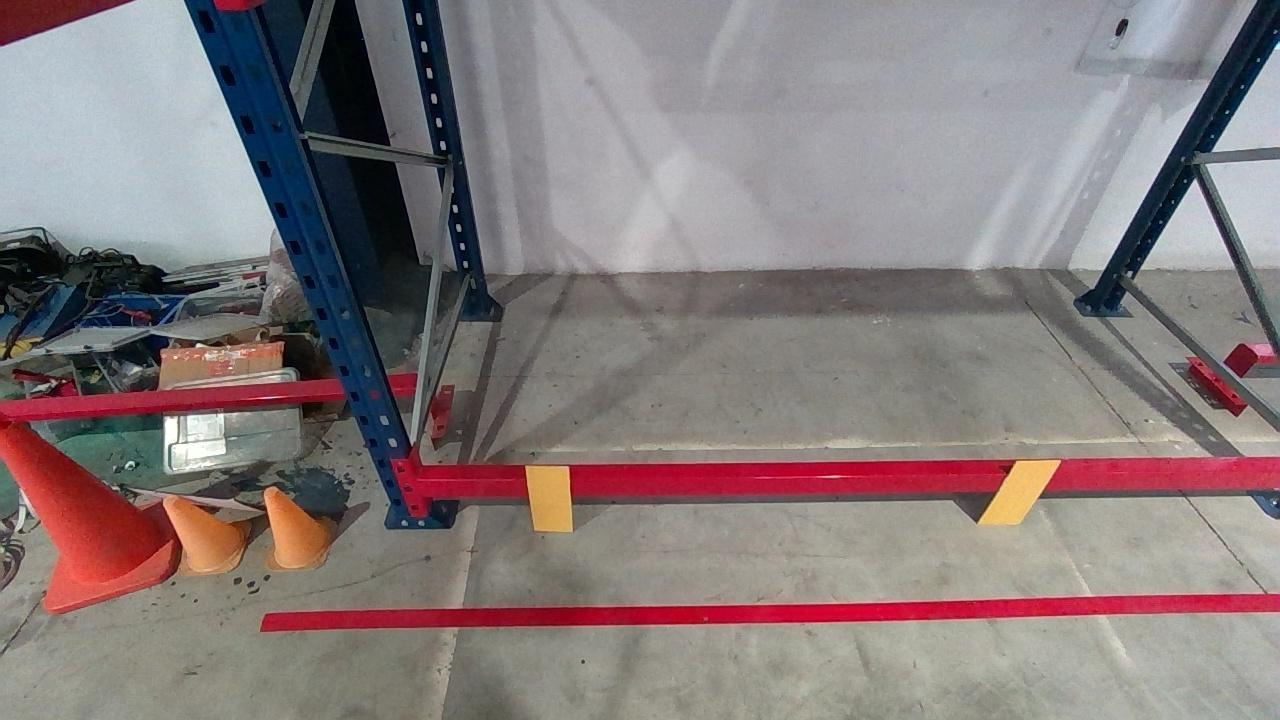h_rack: (413, 467, 1279, 497)
orange_strip: (974, 459, 1062, 523), (524, 465, 573, 531)
red_line: (252, 593, 1279, 627)
